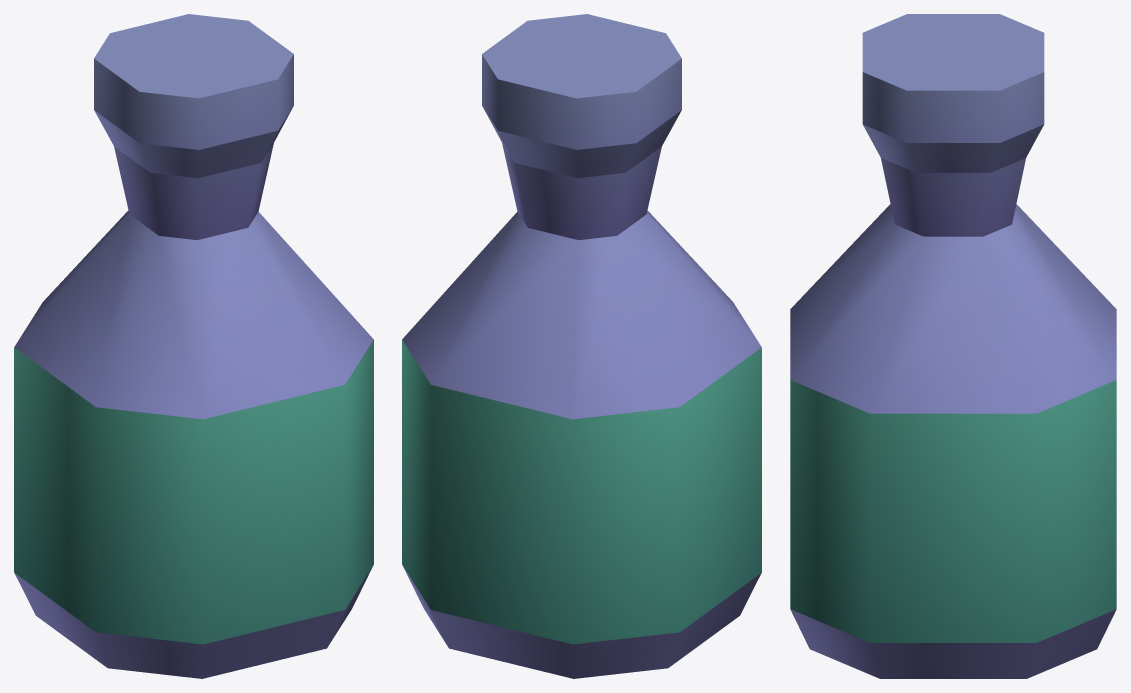
The model's file is bottle-large.fbx.
3 renders of one model, left to right at view 1: azimuth 30°, elevation 25°; view 2: azimuth 150°, elevation 25°; view 3: azimuth 270°, elevation 25°, orthographic.
Parts seen in each view (by area): view 1: bottle-large; view 2: bottle-large; view 3: bottle-large.
Boxes of the visible parts, box(x1,y1,x2,y2) form: bottle-large: box(14, 14, 373, 678); bottle-large: box(402, 14, 761, 678); bottle-large: box(790, 14, 1116, 678).
Size of the model in its own units: 46.58 by 89.05 by 46.58.
